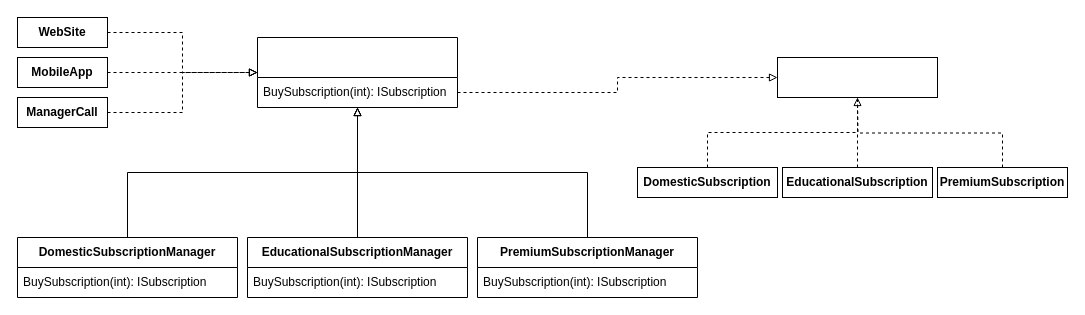
Image size: 1085x315. Some labels were removed from this diagram. The shapes that lost their labels are listed below. From the top down, each one's box as (x1, y1, x2, y2) in pixels, then its label:
(256, 36, 458, 108): <<abstract>> SubscriptionManager
(776, 56, 938, 98): <<interface>> ISubscription
